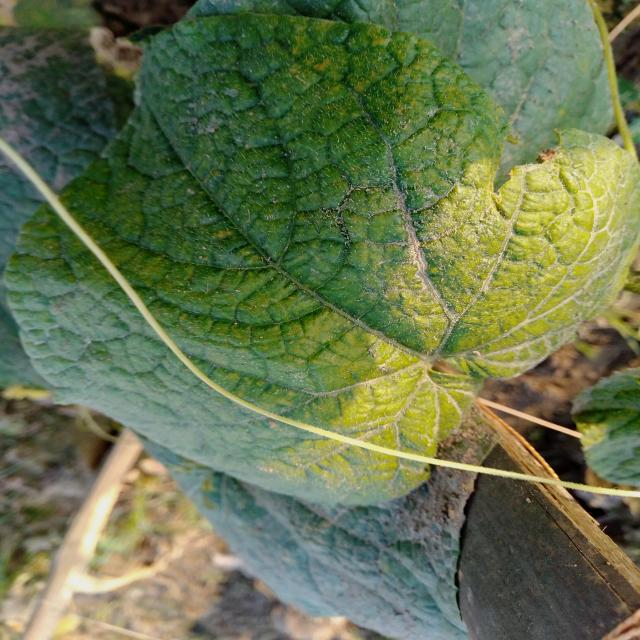cucumber_healthy: (2, 10, 638, 520), (190, 0, 618, 176)
